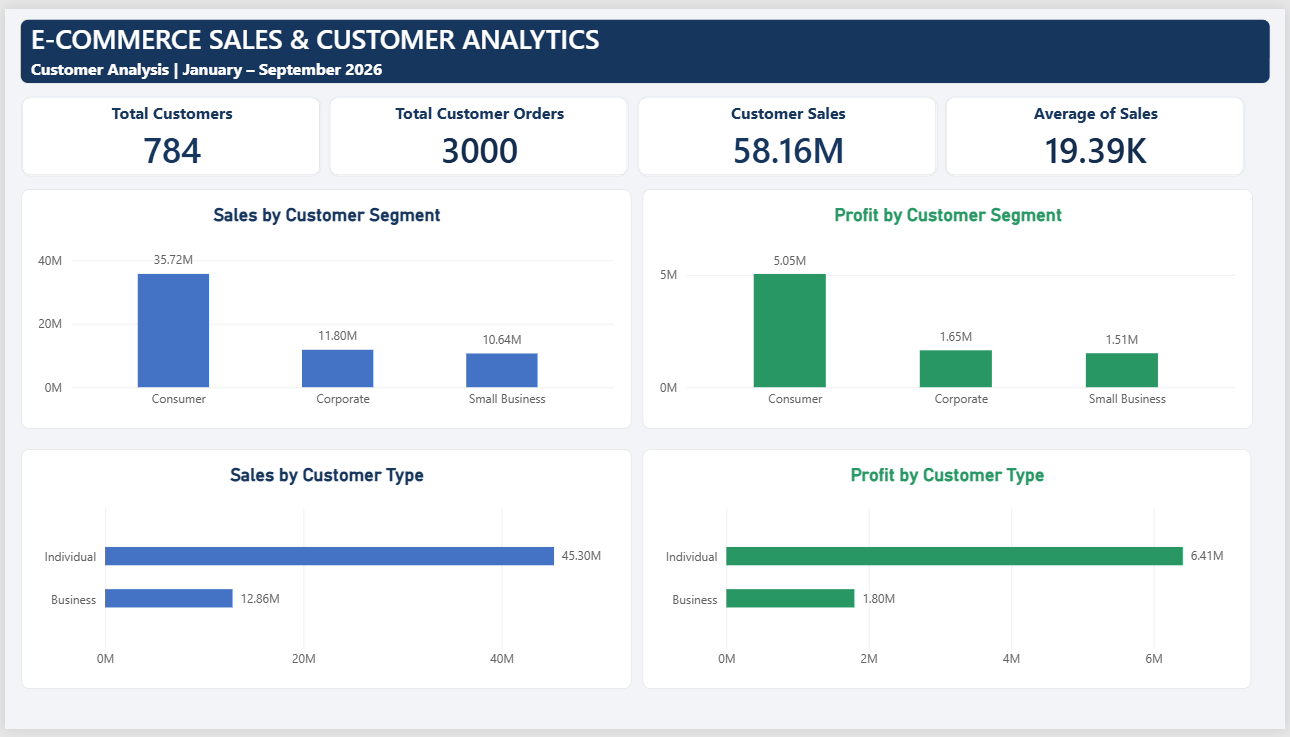

The dashboard page shown, as its layout file describes it:
{"tool":"powerbi","page":{"name":"Customer_Analysis","canvas":[1280,720],"ordinal":1},"visuals":[{"type":"textbox","title":"E-COMMERCE SALES & CUSTOMER ANALYTICS","box":[15,10,1250,65],"z":0},{"type":"cardVisual","title":"Total Customers","fields":{"Data":["Count(ecommerce_sales_cleaned.Customer ID)"]},"box":[16,88,300,80],"z":1000},{"type":"cardVisual","title":"Total Customers","fields":{"Data":["Count(ecommerce_sales_cleaned.Order ID)"]},"box":[324,88,300,80],"z":2000},{"type":"cardVisual","title":"Total Customers","fields":{"Data":["Sum(ecommerce_sales_cleaned.Sales)"]},"box":[632,88,300,80],"z":3000},{"type":"cardVisual","title":"Total Customers","fields":{"Data":["Avg(ecommerce_sales_cleaned.Sales)"]},"box":[940,88,300,80],"z":4000},{"type":"clusteredColumnChart","title":"Sales by Customer Segment","fields":{"Category":["ecommerce_sales_cleaned.Customer Segment"],"Y":["Sum(ecommerce_sales_cleaned.Sales)"]},"box":[16,180,610,240],"z":5000},{"type":"clusteredColumnChart","title":"Profit by Customer Segment","fields":{"Category":["ecommerce_sales_cleaned.Customer Segment"],"Y":["Sum(ecommerce_sales_cleaned.Profit)"]},"box":[638,180,610,240],"z":6000},{"type":"clusteredBarChart","title":"Sales by Customer Type","fields":{"Category":["ecommerce_sales_cleaned.Customer Type"],"Y":["Sum(ecommerce_sales_cleaned.Sales)"]},"box":[15.7,440,610,240],"z":7000},{"type":"clusteredBarChart","title":"Profit by Customer Type","fields":{"Category":["ecommerce_sales_cleaned.Customer Type"],"Y":["Sum(ecommerce_sales_cleaned.Profit)"]},"box":[638,440,608.6,240],"z":8000}]}

Visuals, with their boxes in screenshot pixels (x1, y1, x2, y2), scaled from the page's 1280x720 canvas onto the 1290x737 screenshot:
"E-COMMERCE SALES & CUSTOMER ANALYTICS" textbox: 15 10 1275 77
"Total Customers" cardVisual: 16 90 318 172
"Total Customers" cardVisual: 327 90 629 172
"Total Customers" cardVisual: 637 90 939 172
"Total Customers" cardVisual: 947 90 1250 172
"Sales by Customer Segment" clusteredColumnChart: 16 184 631 430
"Profit by Customer Segment" clusteredColumnChart: 643 184 1258 430
"Sales by Customer Type" clusteredBarChart: 16 450 631 696
"Profit by Customer Type" clusteredBarChart: 643 450 1256 696
